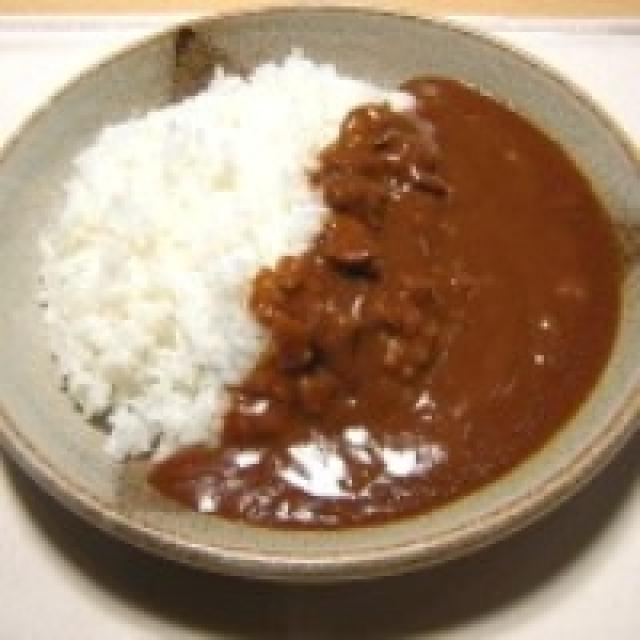牛肉菜式: (0, 4, 637, 582)
